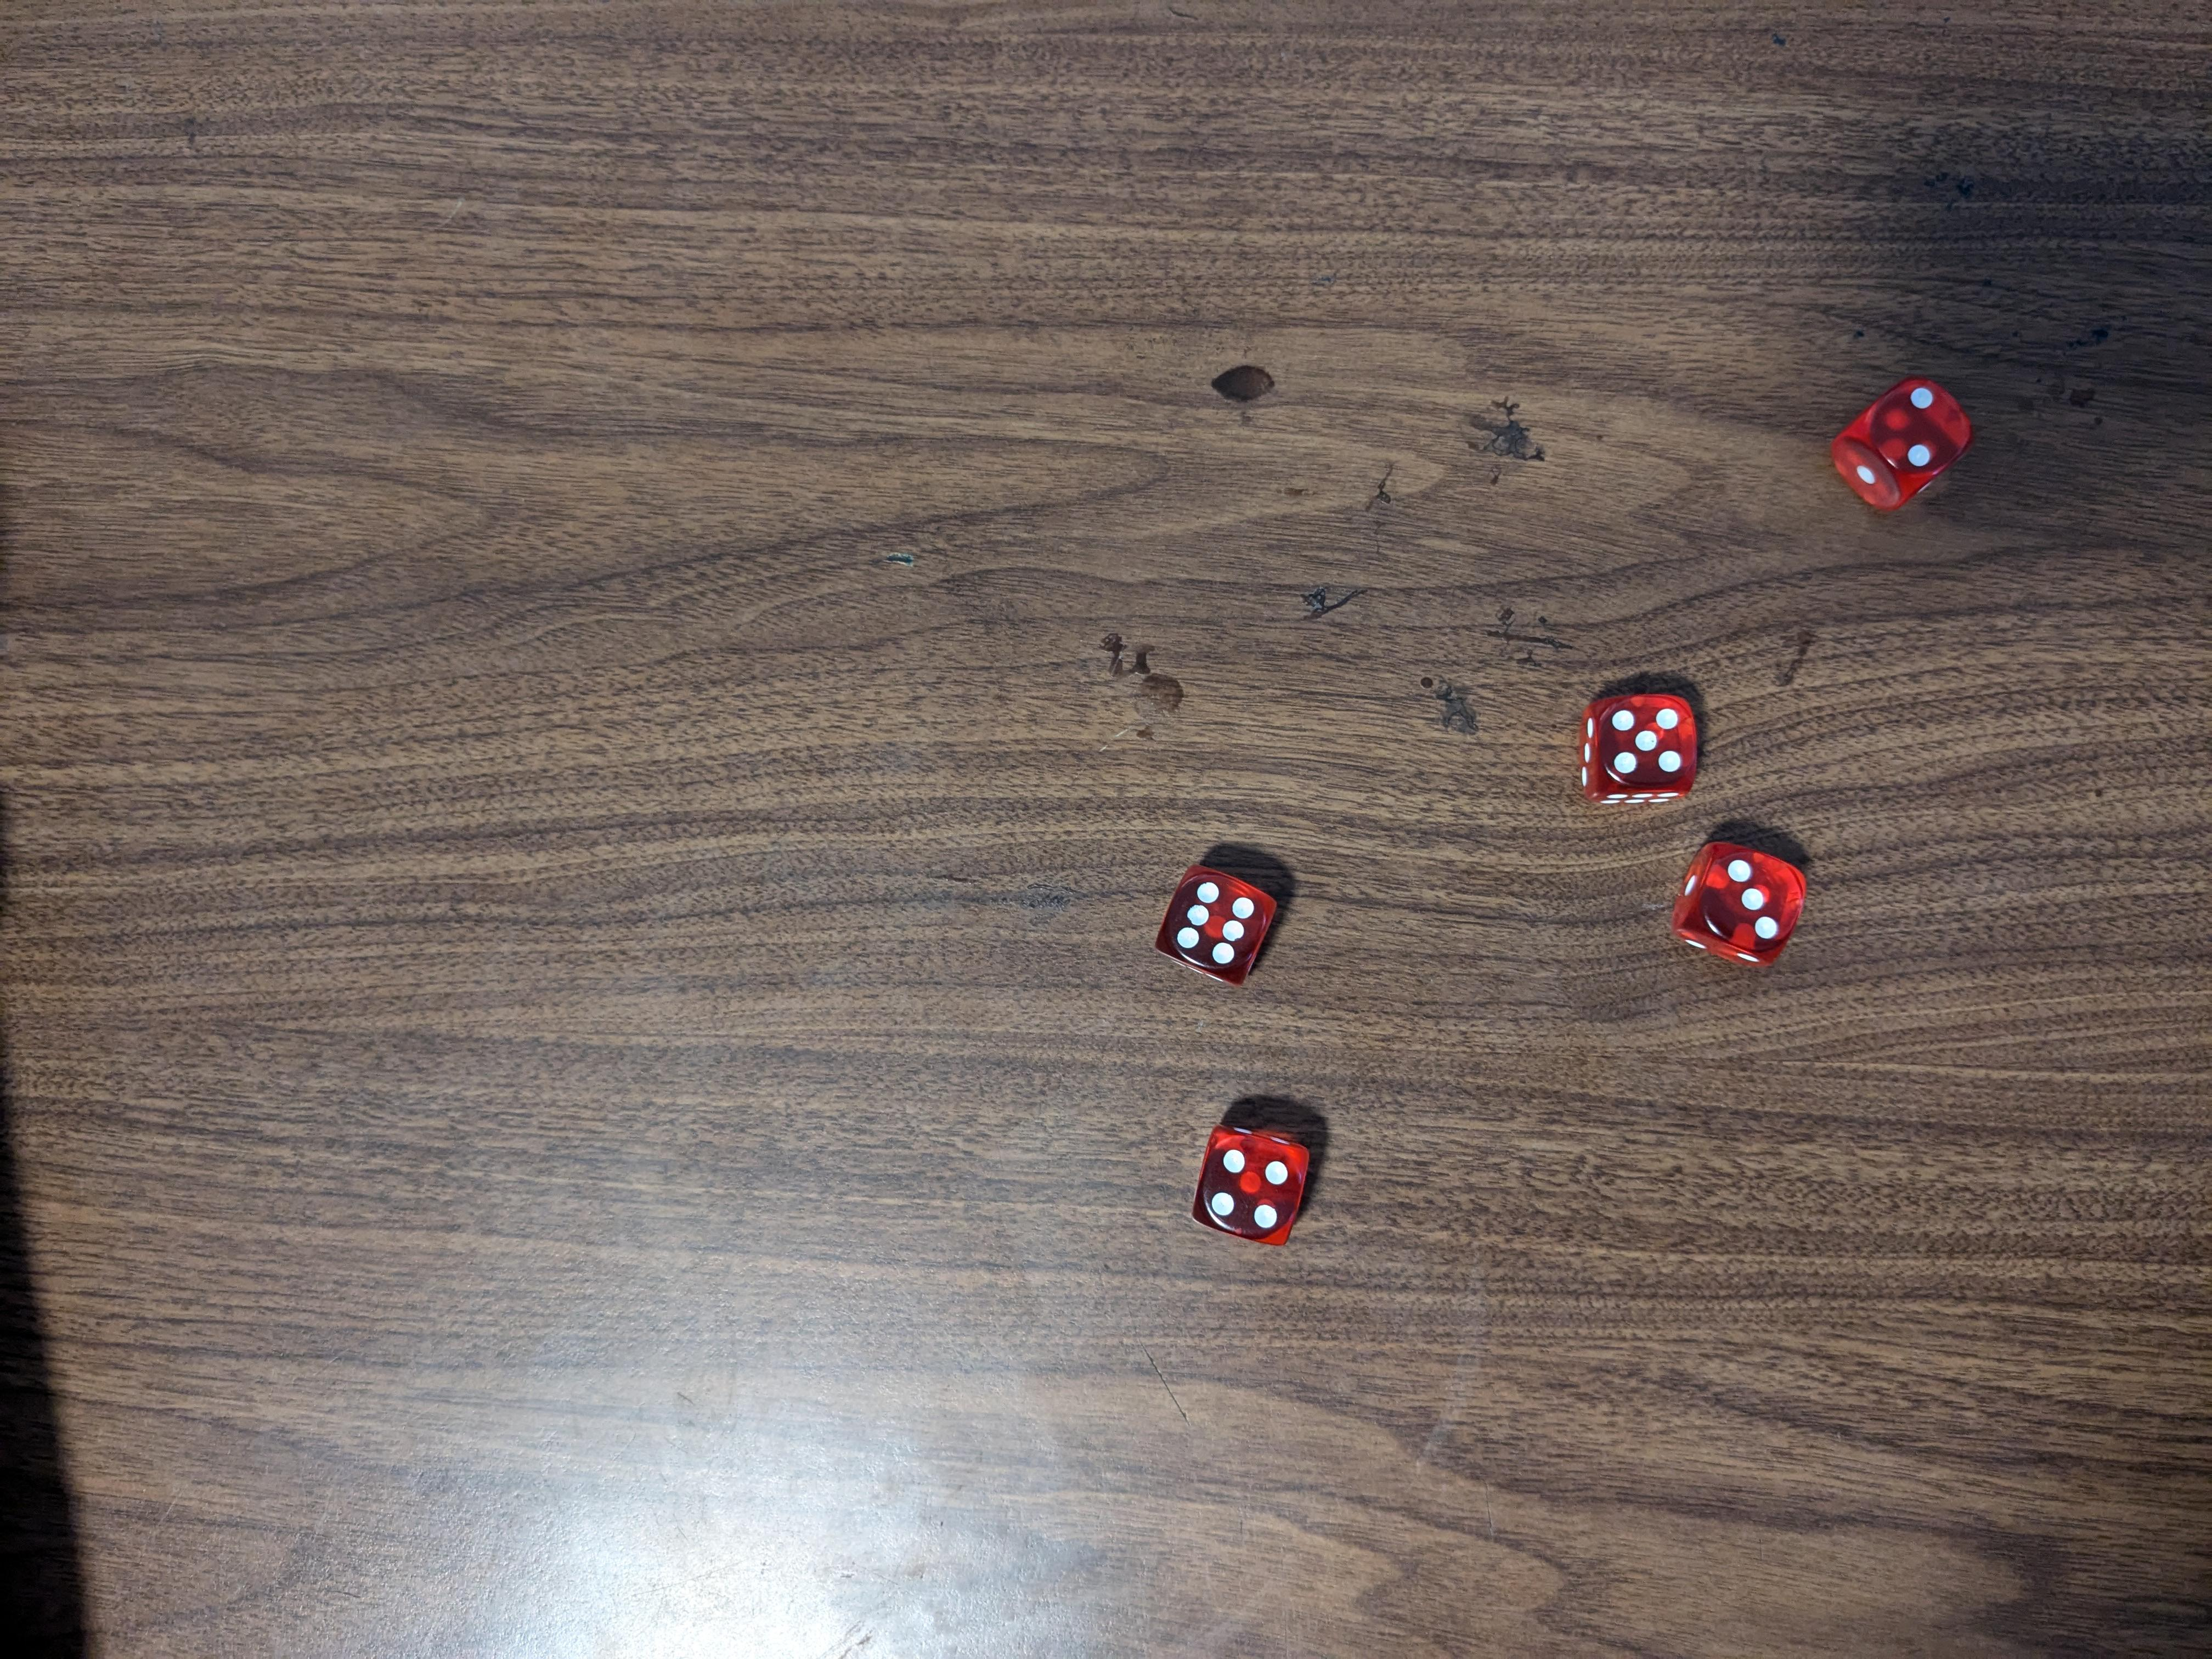five: (1580, 685, 1707, 810)
four: (1197, 1124, 1306, 1258)
six: (1153, 866, 1282, 988)
three: (1672, 835, 1815, 976)
two: (1834, 373, 1972, 512)
